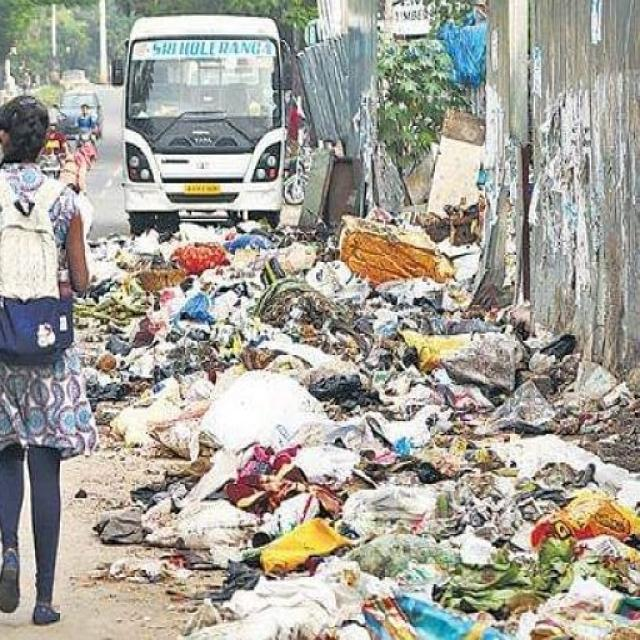garbage: (37, 194, 640, 640)
